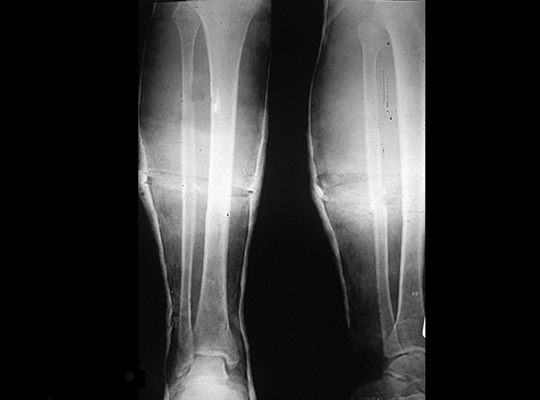fracture: (169, 171, 254, 203)
